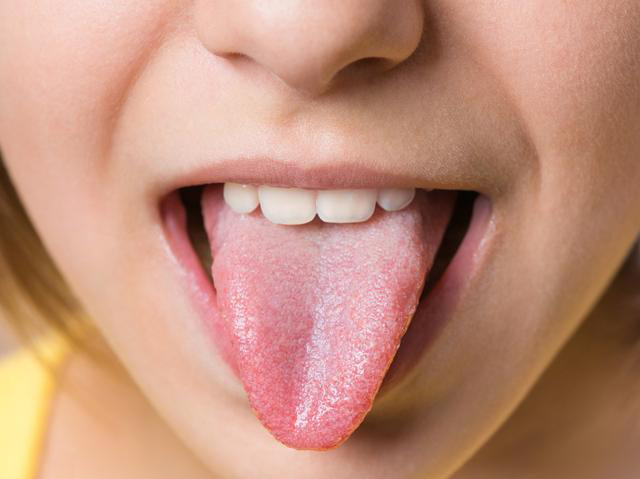hongshe: (202, 189, 452, 451)
shoushe: (202, 189, 452, 451)
